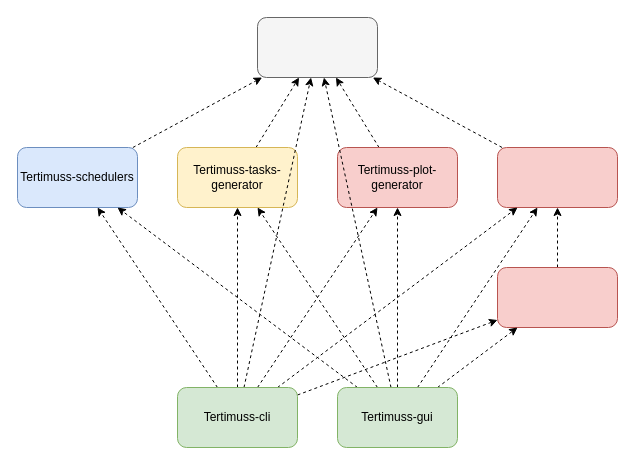
Some shapes in this 635 by 465 pixel diagram are drawn without their labels. Here are the shapes that lost their labels. From the top down, the centre of each, then its label:
At (317,47): "Tertimuss-lib".
At (557,177): "Tertimuss-statics".
At (557,297): "Tertimuss-scheduler-comparator".
